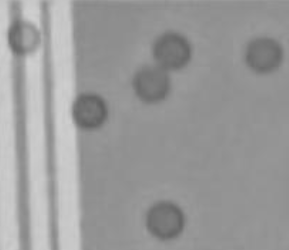cell: (147, 23, 194, 74), (140, 194, 188, 243), (127, 60, 173, 109), (240, 33, 285, 77), (67, 88, 110, 133), (3, 13, 45, 58)
